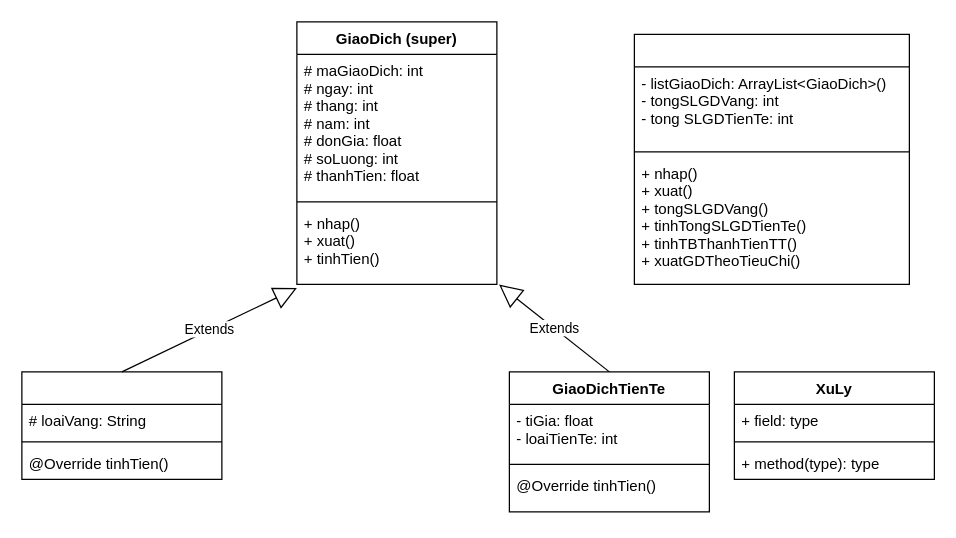
Some shapes in this 956 by 538 pixel diagram are drawn without their labels. Here are the shapes that lost their labels. From the top down, the box of each, then its label:
(633, 33, 909, 284): DanhSachGiaoDich
(21, 371, 222, 479): GiaoDichVang
